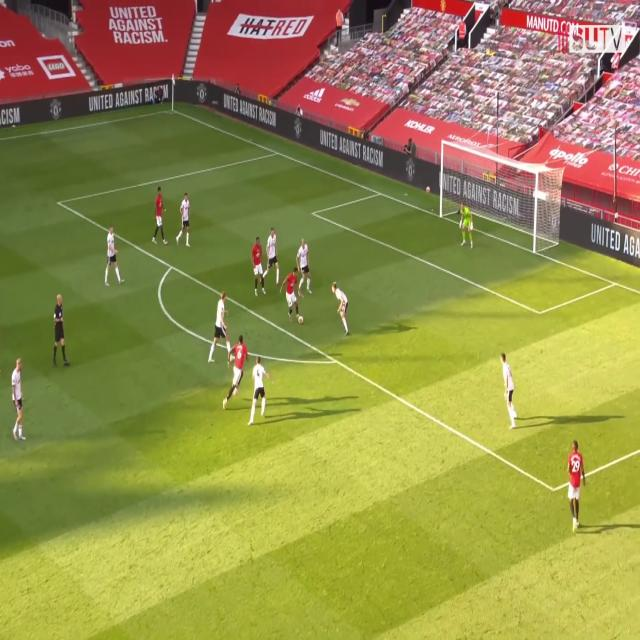ball: (297, 315, 305, 329)
team1: (224, 333, 249, 412), (566, 438, 586, 536), (284, 268, 304, 328), (250, 233, 267, 298), (153, 186, 169, 247)
team2: (10, 358, 28, 446), (501, 353, 520, 436), (249, 356, 270, 429), (212, 290, 233, 360), (105, 222, 124, 286), (294, 239, 314, 297), (332, 286, 354, 338), (267, 226, 282, 286), (178, 193, 193, 250)
